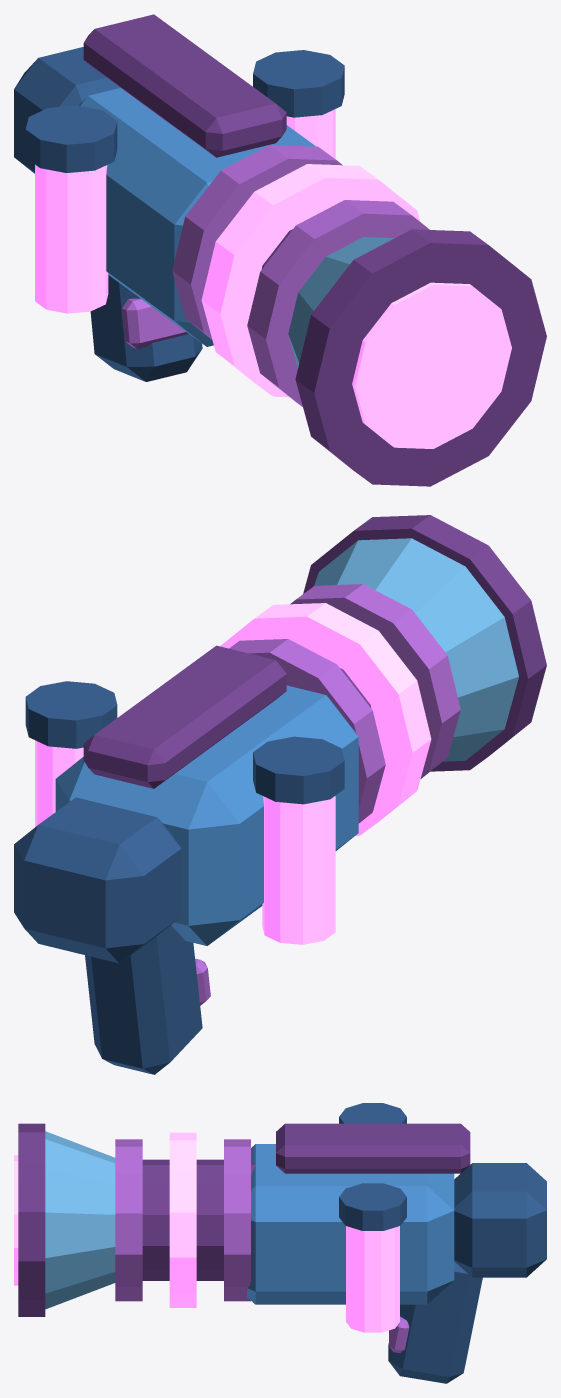
File: DestoryCannon.glb
The picture shows the model from 3 angles, top to bottom: view 1: azimuth 30°, elevation 25°; view 2: azimuth 150°, elevation 25°; view 3: azimuth 270°, elevation 25°; orthographic projection. The views are drawn at different scales.
Parts seen in each view (by area): view 1: DestroyCannon_MuzzleRim, DestroyCannon_EnergyCore, DestroyCannon_MainBody, DestroyCannon_TopRail, DestroyCannon_EnergyRing_02, DestroyCannon_EnergyRing_03, DestroyCannon_ChargeCell_Left, DestroyCannon_EnergyRing_01, DestroyCannon_CellCap_Left, DestroyCannon_Grip, DestroyCannon_CellCap_Right, DestroyCannon_RearStock (+3 smaller); view 2: DestroyCannon_MainBody, DestroyCannon_RearStock, DestroyCannon_MuzzleBell, DestroyCannon_TopRail, DestroyCannon_EnergyRing_02, DestroyCannon_Grip, DestroyCannon_MuzzleRim, DestroyCannon_ChargeCell_Left, DestroyCannon_EnergyRing_03, DestroyCannon_EnergyRing_01, DestroyCannon_CellCap_Left, DestroyCannon_CellCap_Right (+1 smaller); view 3: DestroyCannon_MainBody, DestroyCannon_MuzzleBell, DestroyCannon_RearStock, DestroyCannon_TopRail, DestroyCannon_InnerBarrel, DestroyCannon_Grip, DestroyCannon_ChargeCell_Right, DestroyCannon_MuzzleRim, DestroyCannon_EnergyRing_02, DestroyCannon_EnergyRing_03, DestroyCannon_EnergyRing_01, DestroyCannon_CellCap_Right (+3 smaller).
Boxes of the visible parts, box(x1,y1,x2,y2) form: DestroyCannon_MuzzleRim: box(295, 229, 546, 486); DestroyCannon_EnergyCore: box(352, 282, 511, 448); DestroyCannon_MainBody: box(79, 88, 315, 346); DestroyCannon_TopRail: box(83, 14, 286, 157); DestroyCannon_EnergyRing_02: box(201, 164, 420, 397); DestroyCannon_EnergyRing_03: box(247, 200, 429, 406); DestroyCannon_ChargeCell_Left: box(35, 164, 108, 313); DestroyCannon_EnergyRing_01: box(172, 145, 342, 339); DestroyCannon_CellCap_Left: box(25, 105, 117, 172); DestroyCannon_Grip: box(90, 275, 202, 381); DestroyCannon_CellCap_Right: box(253, 50, 344, 117); DestroyCannon_RearStock: box(14, 47, 120, 173); DestroyCannon_MainBody: box(55, 685, 358, 945); DestroyCannon_RearStock: box(14, 797, 181, 963); DestroyCannon_MuzzleBell: box(314, 538, 518, 761); DestroyCannon_TopRail: box(83, 645, 286, 788); DestroyCannon_EnergyRing_02: box(220, 603, 431, 835); DestroyCannon_Grip: box(85, 925, 202, 1074); DestroyCannon_MuzzleRim: box(303, 515, 546, 771); DestroyCannon_ChargeCell_Left: box(262, 796, 335, 944); DestroyCannon_EnergyRing_03: box(290, 584, 460, 778); DestroyCannon_EnergyRing_01: box(229, 639, 385, 823); DestroyCannon_CellCap_Left: box(253, 736, 344, 804); DestroyCannon_CellCap_Right: box(25, 681, 117, 748); DestroyCannon_MainBody: box(247, 1144, 454, 1304); DestroyCannon_MuzzleBell: box(45, 1131, 115, 1309); DestroyCannon_RearStock: box(454, 1163, 546, 1277); DestroyCannon_TopRail: box(276, 1123, 470, 1173); DestroyCannon_InnerBarrel: box(142, 1159, 255, 1280); DestroyCannon_Grip: box(388, 1261, 482, 1383); DestroyCannon_ChargeCell_Right: box(346, 1226, 399, 1332); DestroyCannon_MuzzleRim: box(18, 1123, 45, 1316); DestroyCannon_EnergyRing_02: box(169, 1132, 196, 1307); DestroyCannon_EnergyRing_03: box(115, 1139, 142, 1301); DestroyCannon_EnergyRing_01: box(224, 1139, 250, 1301); DestroyCannon_CellCap_Right: box(339, 1183, 406, 1230).
Bounding box in the file's own units: 1.13 × 1.19 × 2.36.
